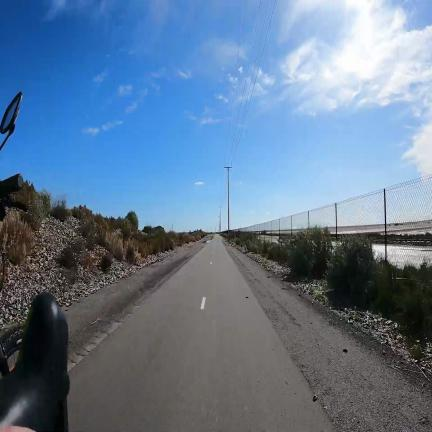Bike_Lane: (68, 236, 332, 432)
